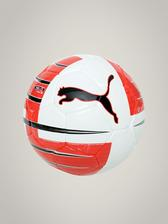other: (20, 52, 148, 178)
